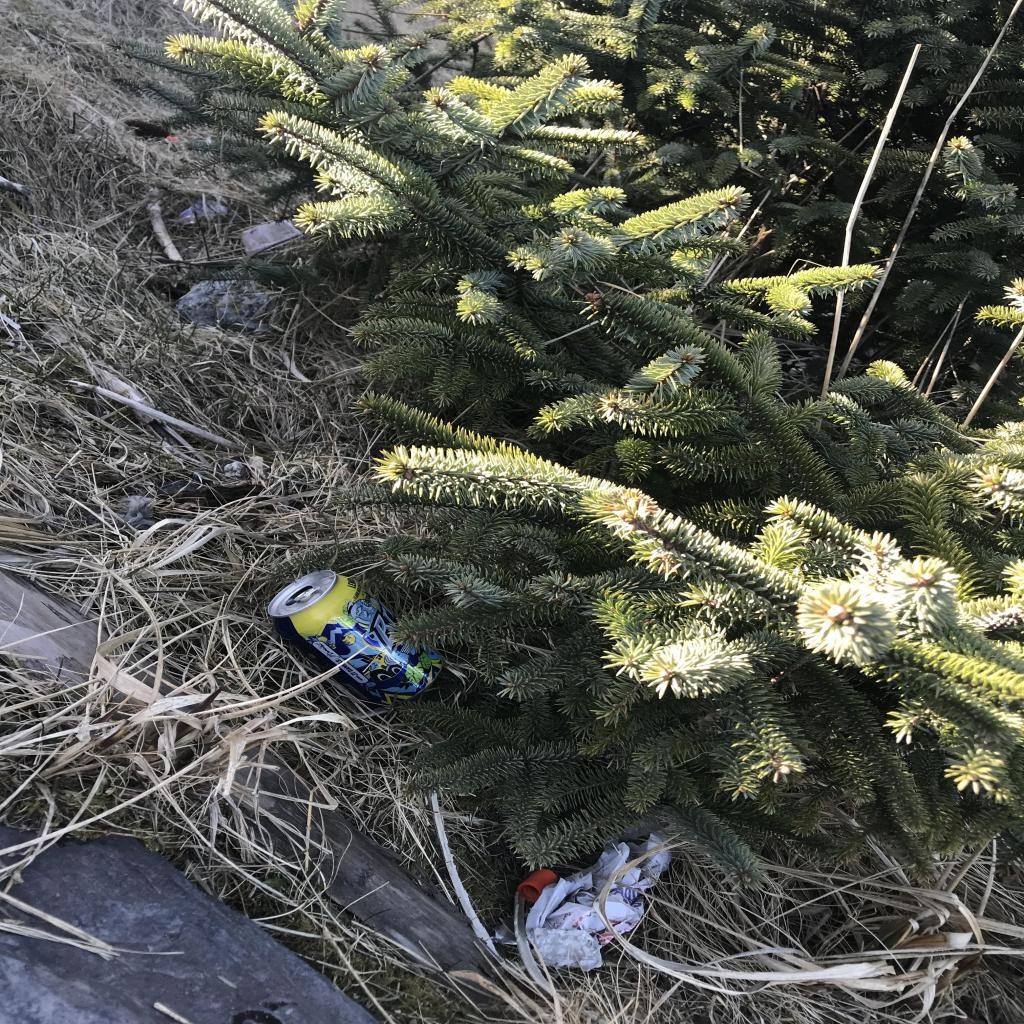Disposable food container: (242, 220, 302, 252)
Drink can: (268, 570, 442, 707)
Plastic bottle cap: (518, 869, 558, 901)
Pop tab: (294, 587, 321, 601)
Unlabeled litter: (525, 818, 674, 944), (530, 927, 600, 970), (174, 200, 226, 220)
